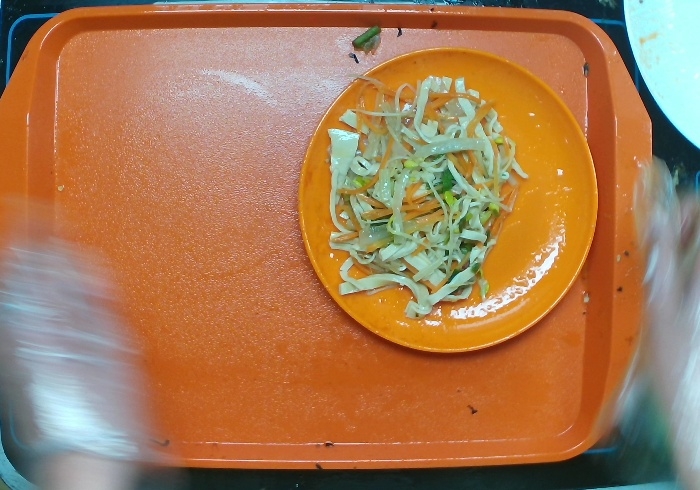HZYJPL-Ju_Huang_Yuan_Pan: (293, 46, 599, 362)
